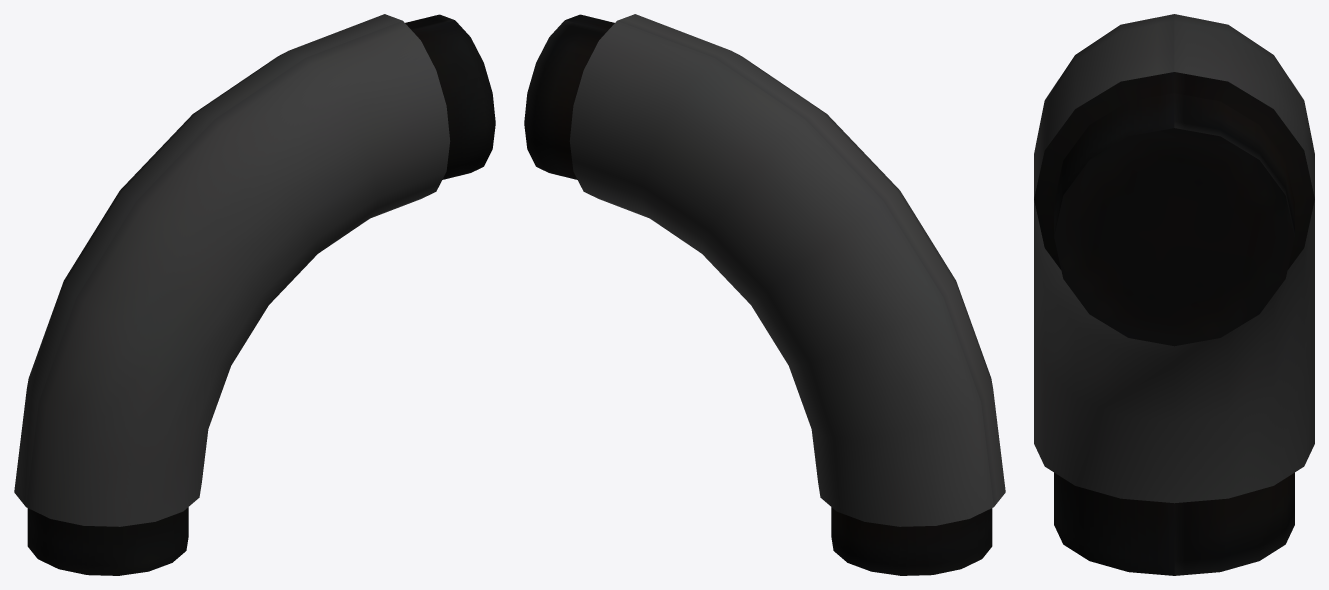
Rendered from Pipe_90deg.FBX.
3 renders of one model, left to right at view 1: azimuth 30°, elevation 25°; view 2: azimuth 150°, elevation 25°; view 3: azimuth 270°, elevation 25°, orthographic. The views are drawn at different scales.
Parts seen in each view (by area): view 1: Pipe_90deg; view 2: Pipe_90deg; view 3: Pipe_90deg.
Part boxes in pixels (box(x1,y1,x2,y2)): Pipe_90deg: box(14, 14, 495, 575); Pipe_90deg: box(524, 14, 1005, 575); Pipe_90deg: box(1034, 14, 1314, 575).
Size of the model in its own units: 77.44 by 77.48 by 29.6.
